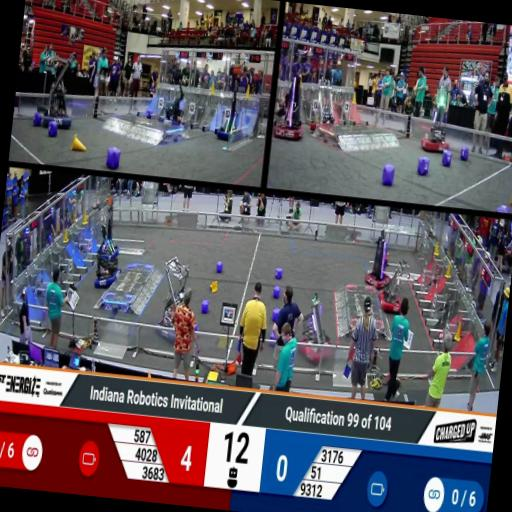robot: (156, 255, 202, 346), (39, 50, 81, 131), (300, 291, 342, 363), (272, 73, 310, 142), (214, 78, 246, 146), (95, 200, 126, 260), (310, 74, 340, 135), (159, 78, 192, 131), (366, 230, 394, 292), (422, 101, 454, 155), (378, 258, 408, 313), (92, 249, 124, 290)
